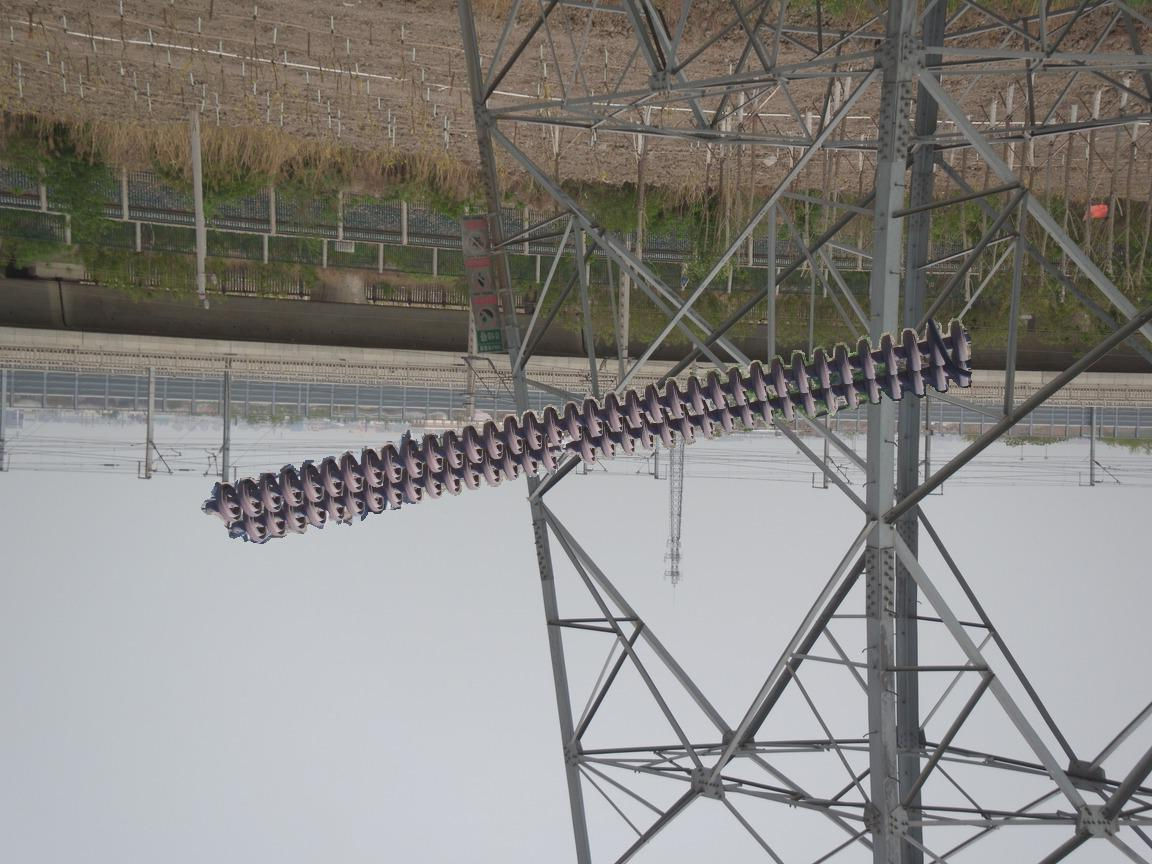insulator: (208, 311, 978, 549)
insulator_stringdrop: (539, 426, 600, 477)
